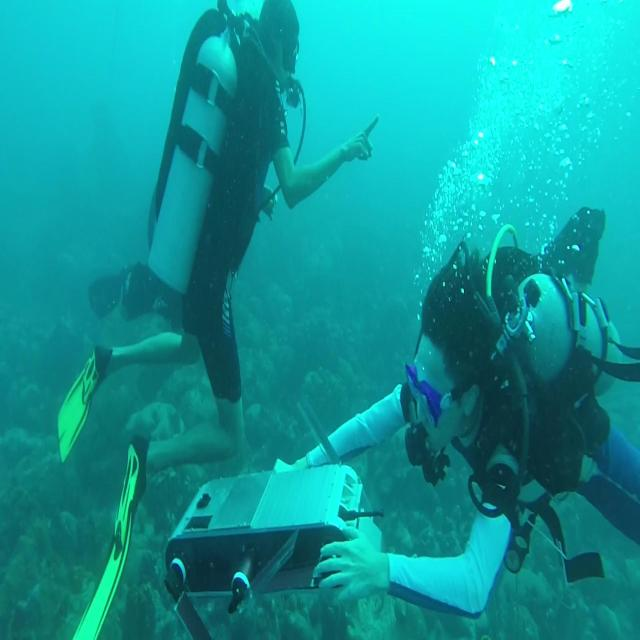human: (57, 0, 379, 481), (278, 207, 636, 618)
